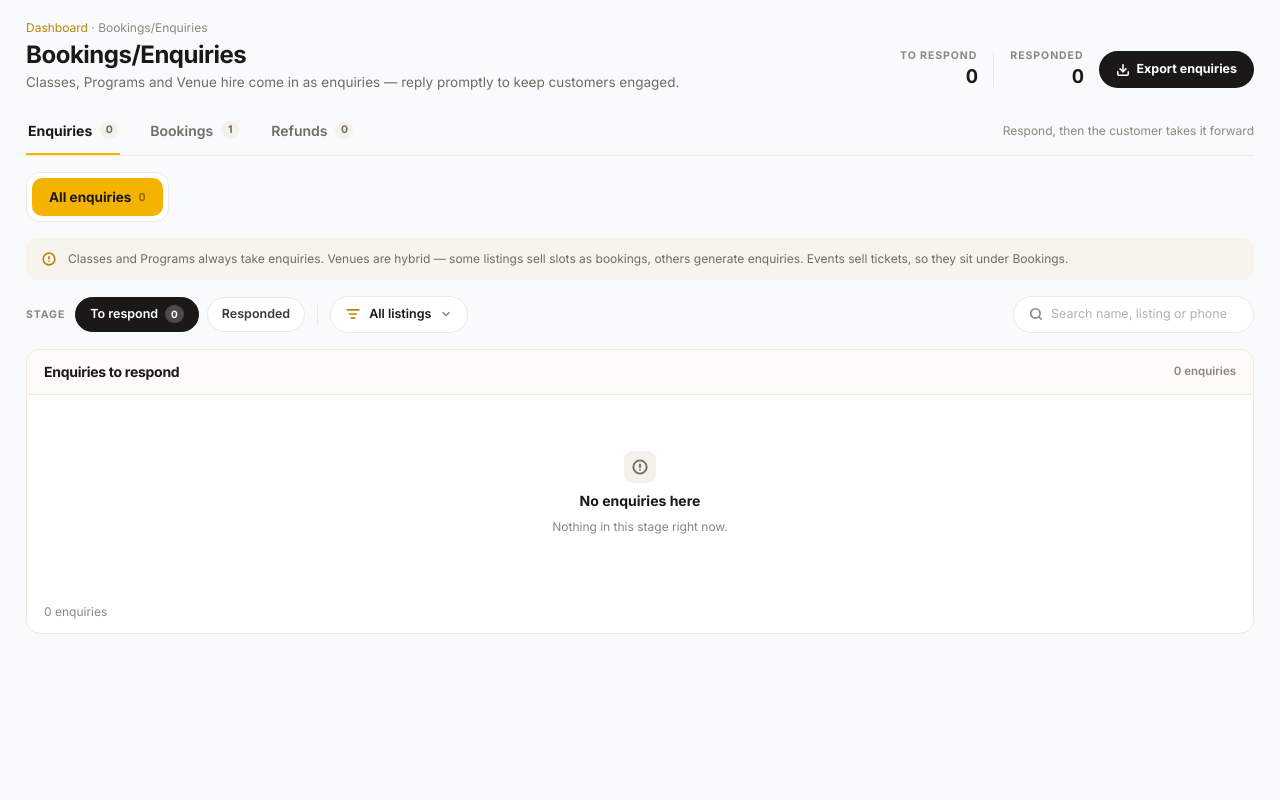
it: Bookings/Enquiries — Refunds tab › says so plainly when there are no refunds
The width and height of the screenshot is (1280, 800).
Click the button "Refunds 0": (312, 131) left=269, top=108, right=356, bottom=155
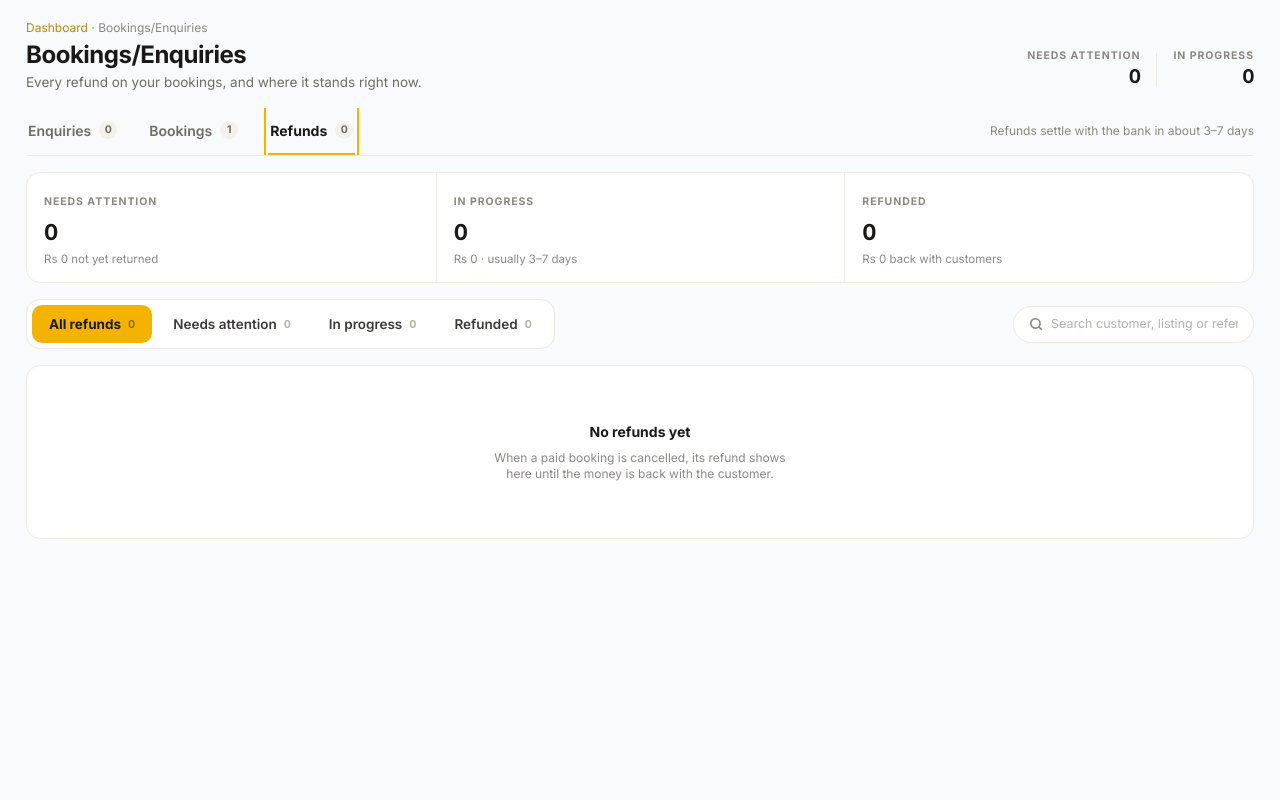
Result: the text "No refunds yet" is shown at left=590, top=422, right=690, bottom=442
